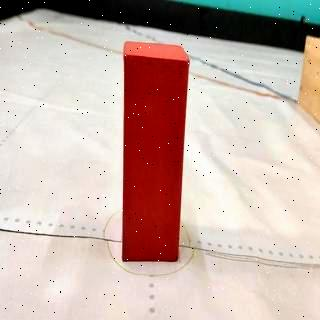redbox: (122, 42, 190, 260)
